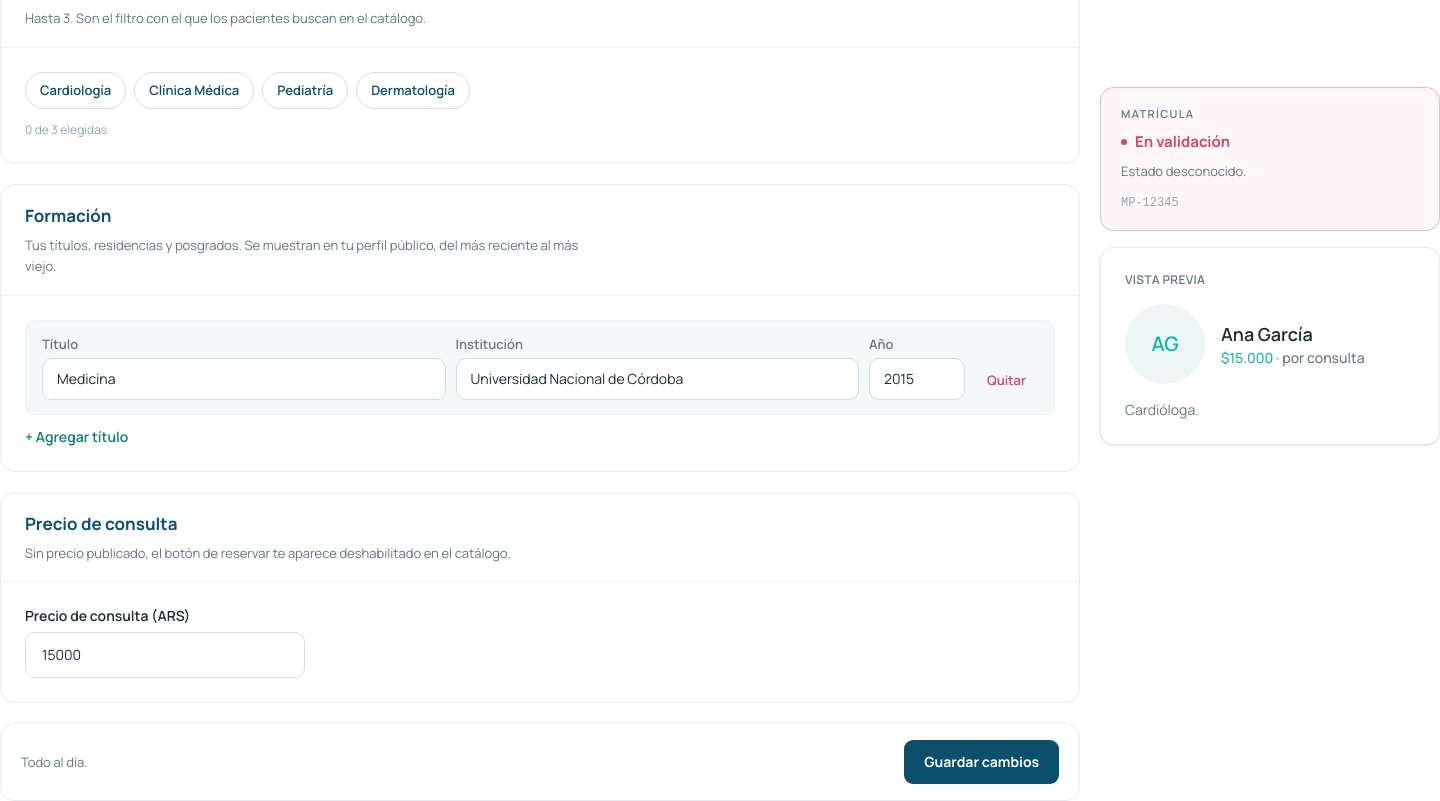
Scenario: ProfessionalProfileForm › manda consultationPrice en null al borrar el precio, para que el backend lo borre
The width and height of the screenshot is (1440, 801).
(page scrolled)
Step 1. Clear the number field labelled "Precio de consulta (ARS)" → (165, 655), box 25,632 -> 305,678
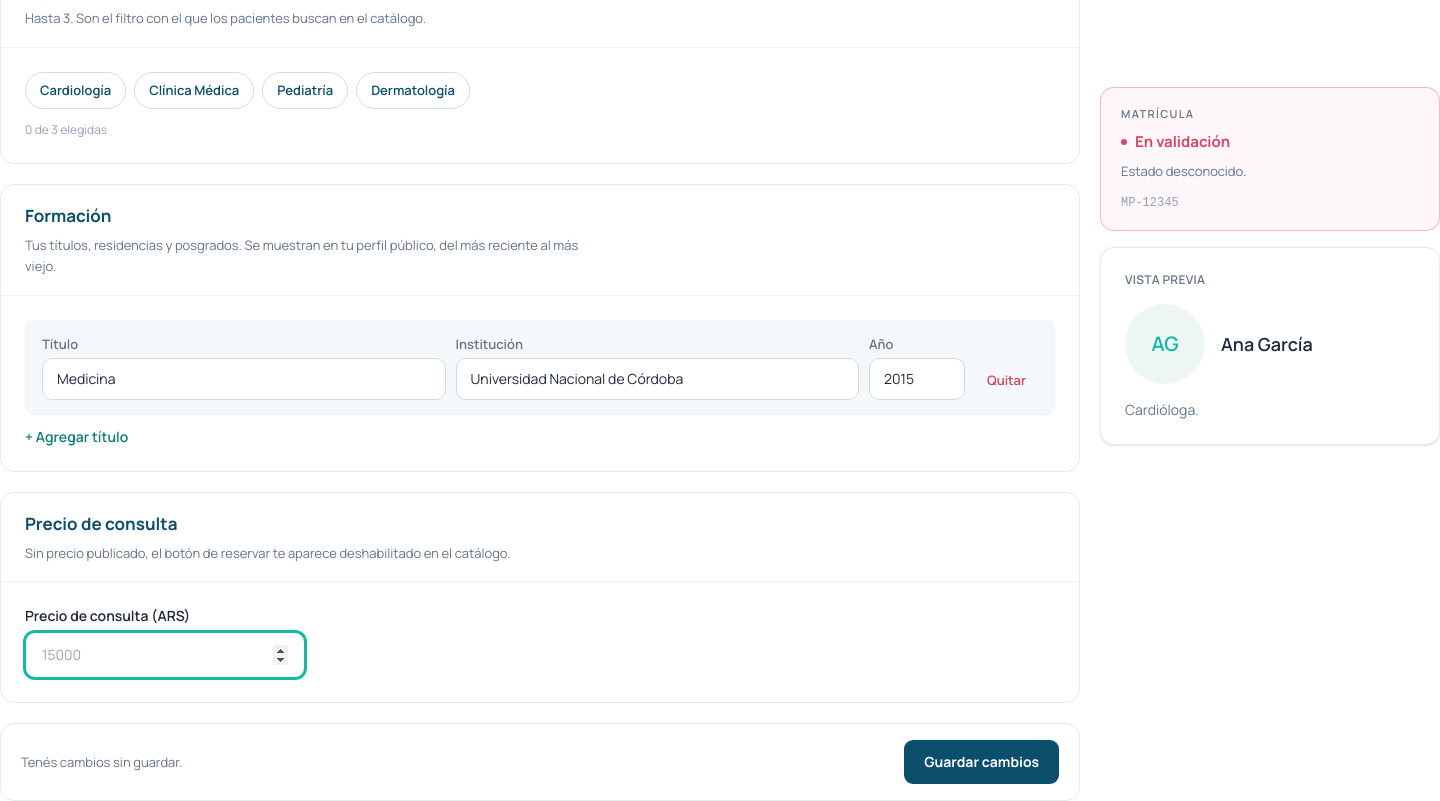
Step 2. Click the button "Guardar cambios" → (982, 762), box 904,740 -> 1059,784
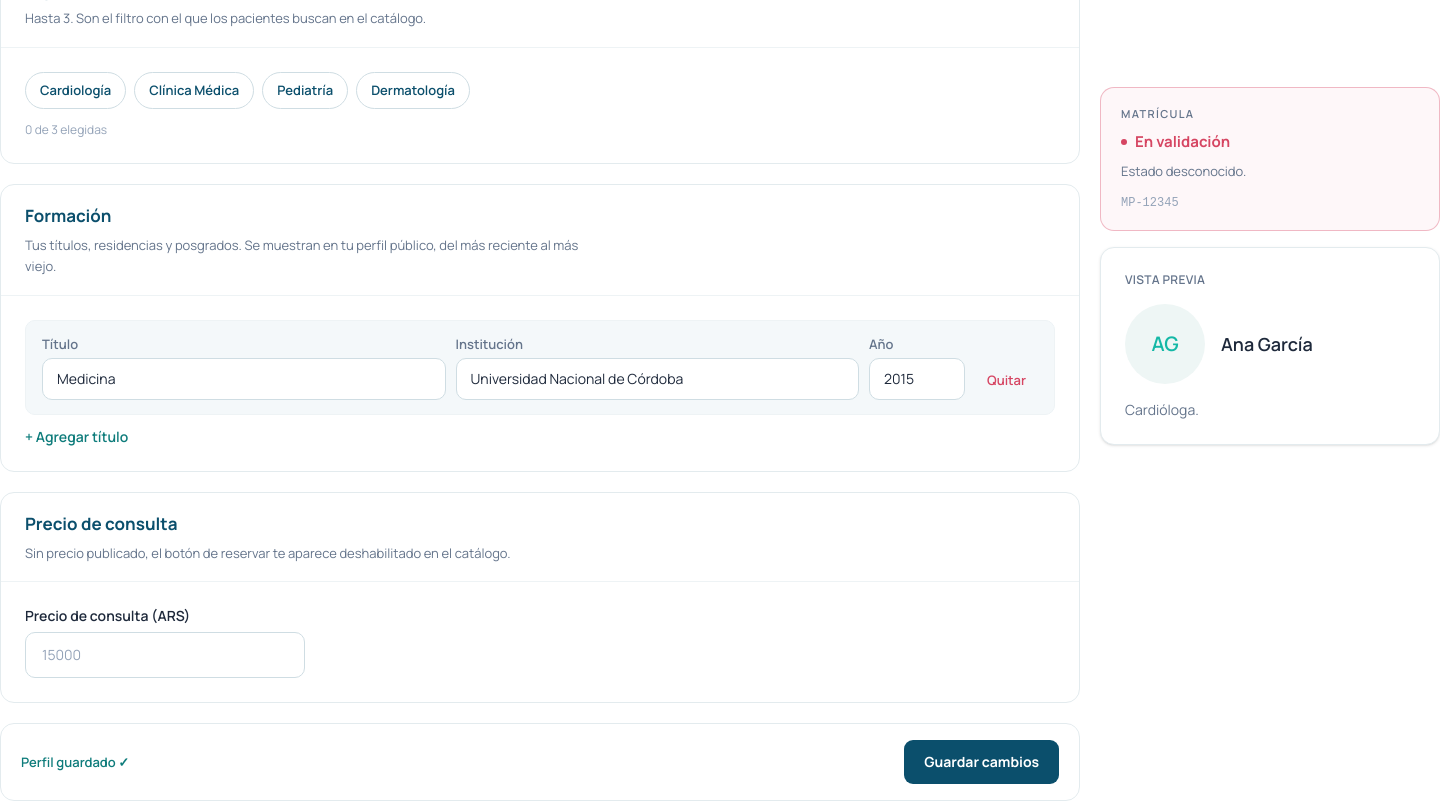
Result: the message "Perfil guardado ✓" is shown at 21,752 -> 129,770
